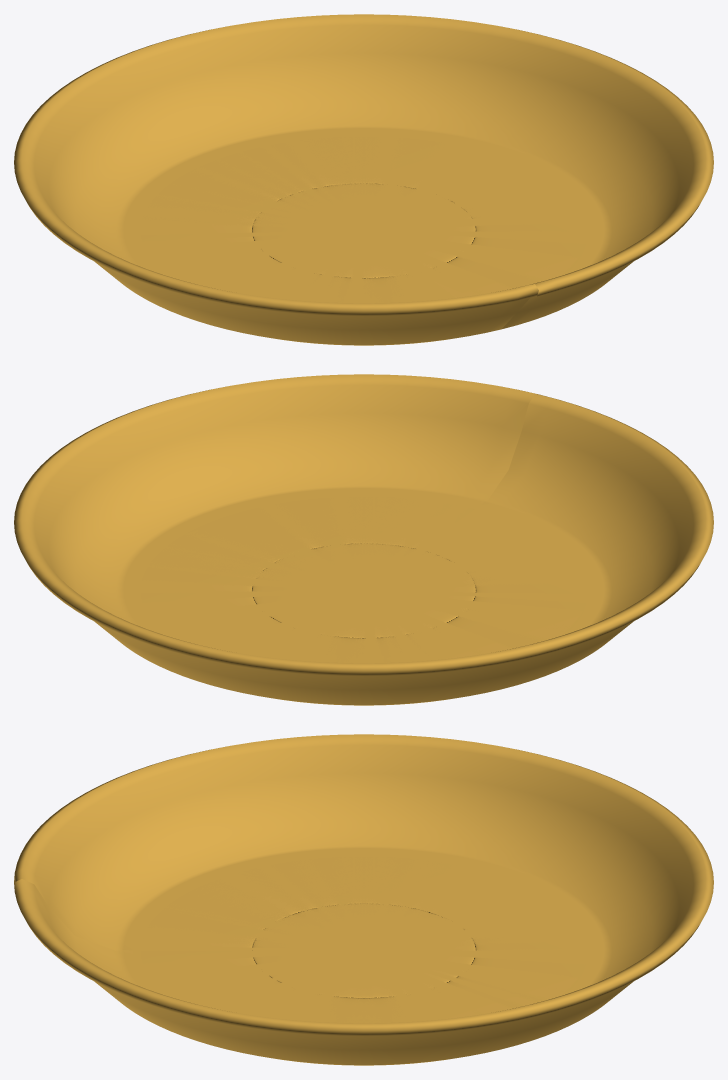
Rendered from brass-plate.glb.
3 views of the same model, one above another, from view 1: azimuth 30°, elevation 25°; view 2: azimuth 150°, elevation 25°; view 3: azimuth 270°, elevation 25° (orthographic).
Visible parts, largest first — view 1: RoyalBrassPlate; view 2: RoyalBrassPlate; view 3: RoyalBrassPlate.
Boxes of the visible parts, left/top/right/bottom form: RoyalBrassPlate: left=14, top=14, right=713, bottom=345; RoyalBrassPlate: left=14, top=374, right=713, bottom=705; RoyalBrassPlate: left=14, top=734, right=713, bottom=1065.
Size of the model in its own units: 3.44 by 0.43 by 3.44.
